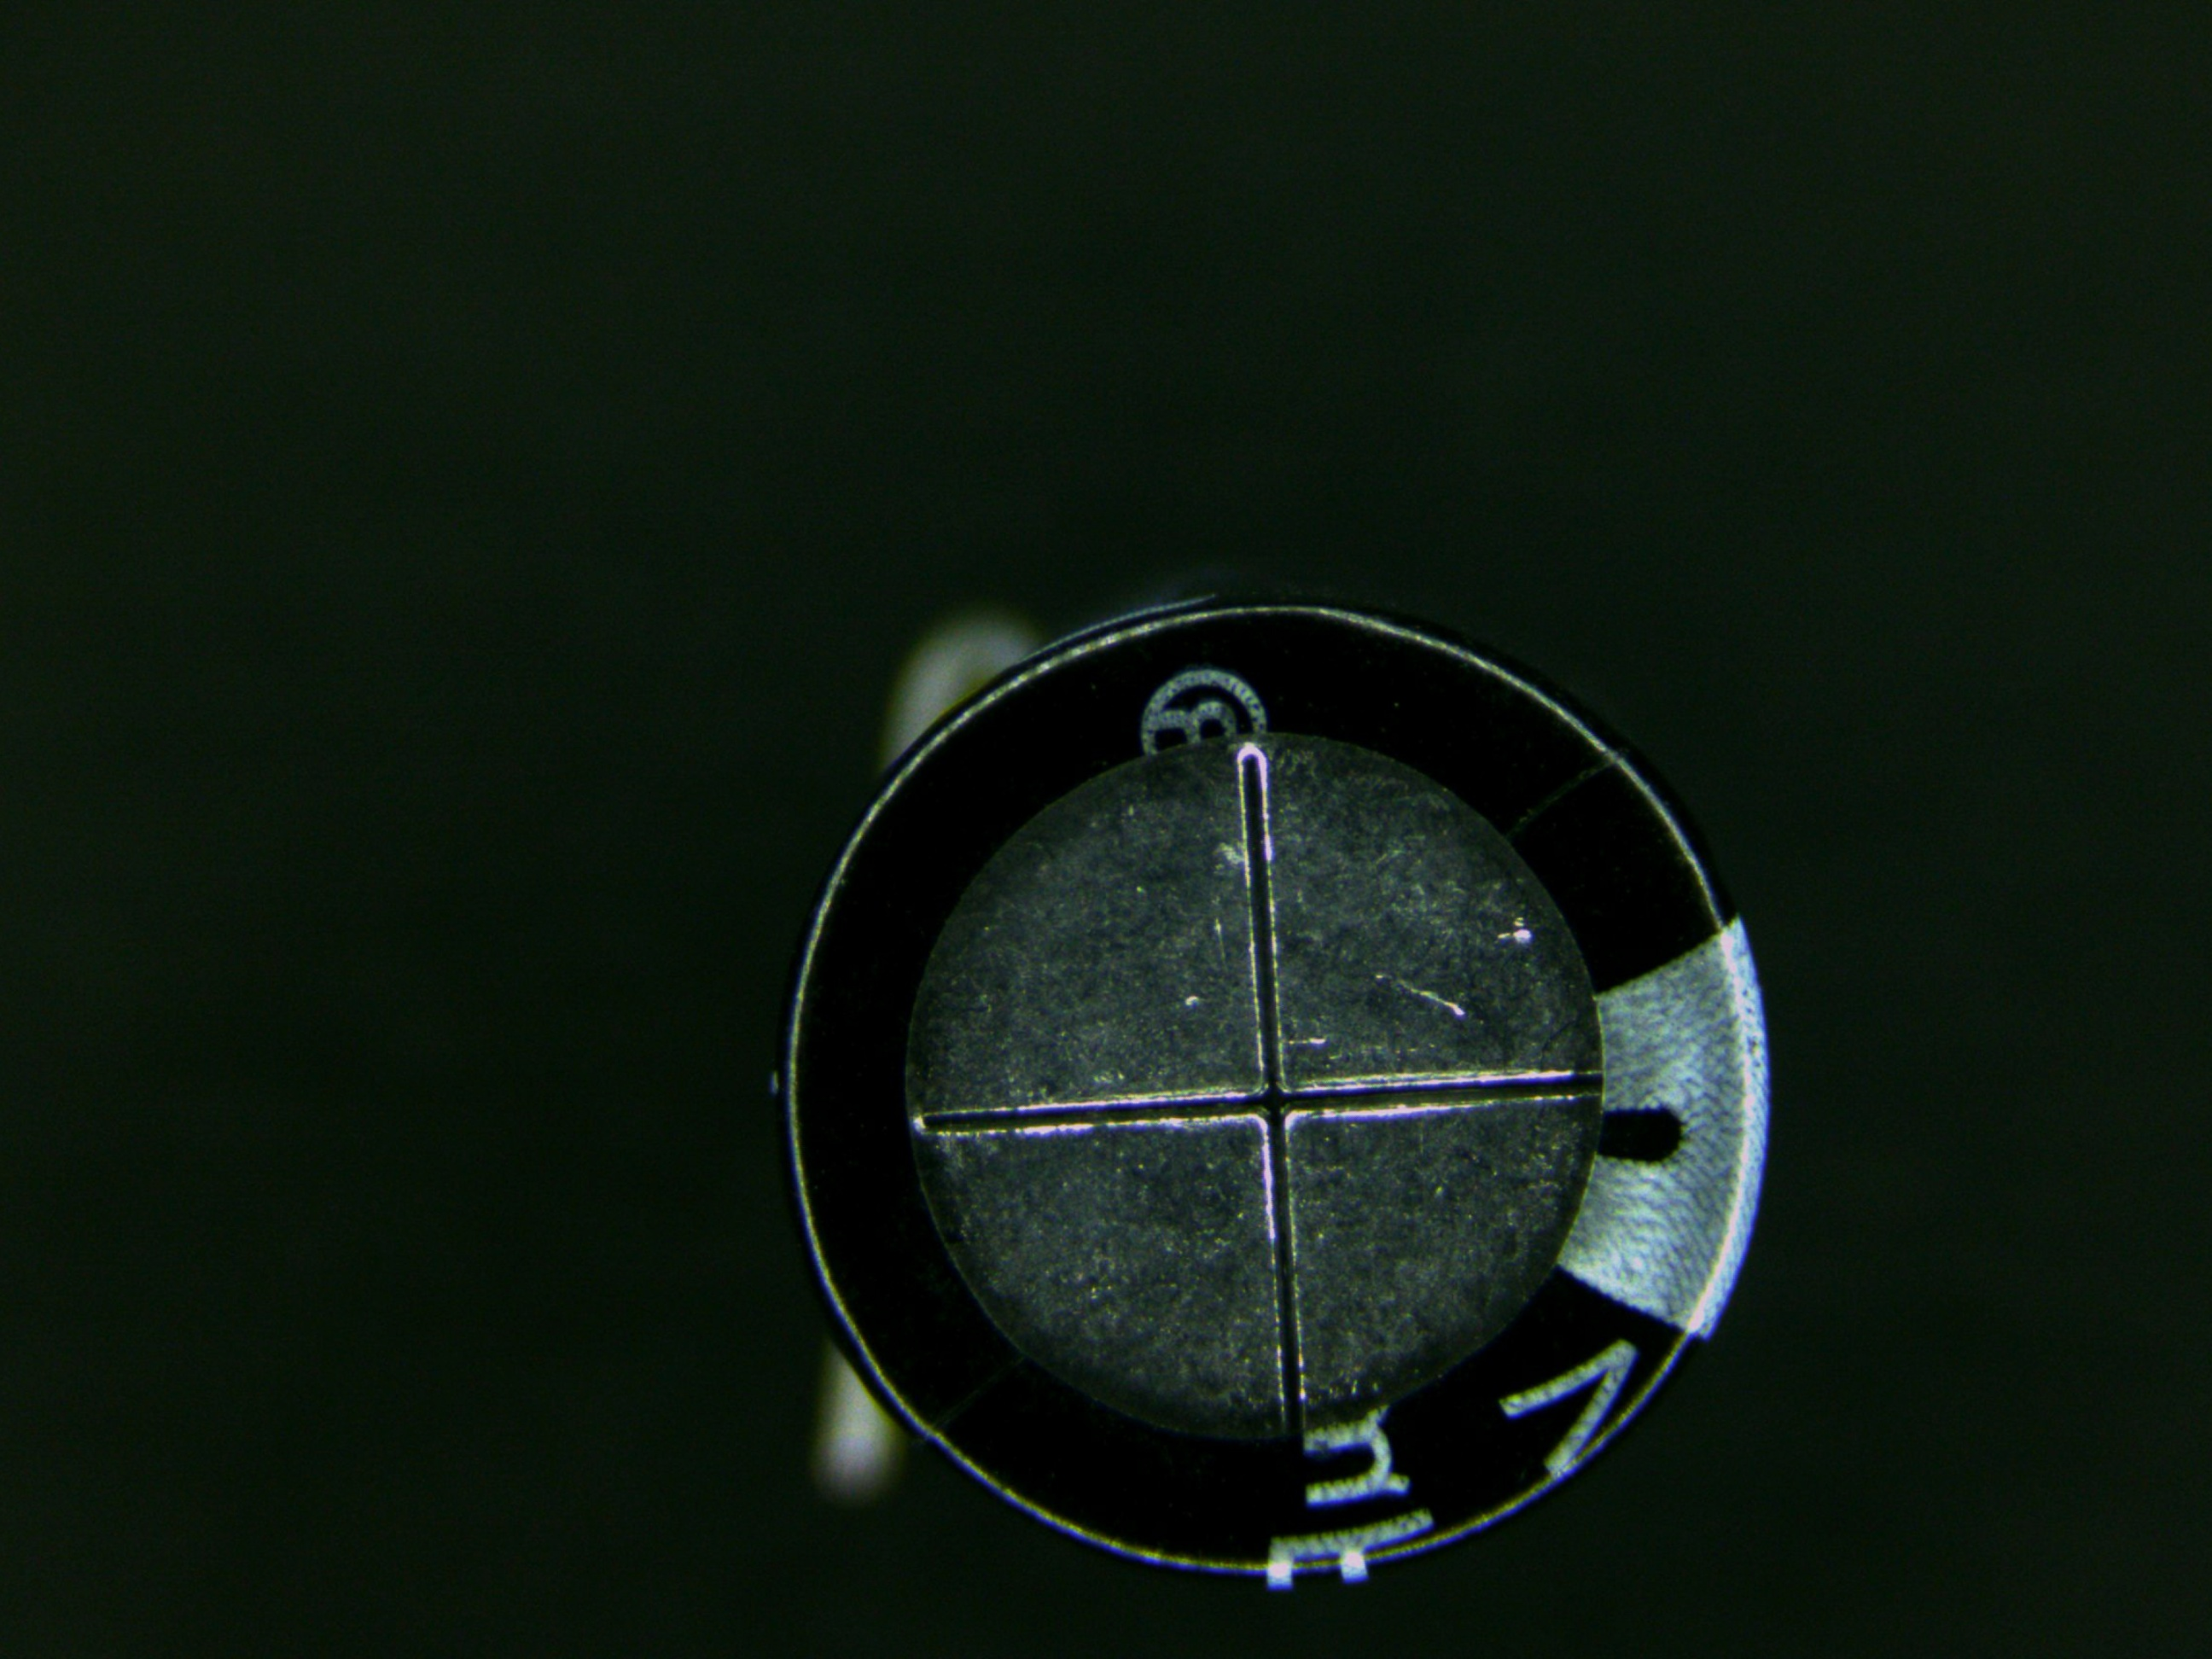c3: (782, 591, 1777, 1614)
